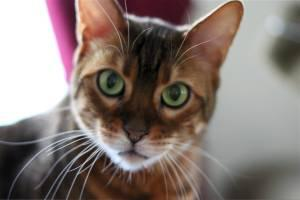cat-Bengal: (69, 0, 242, 171)
